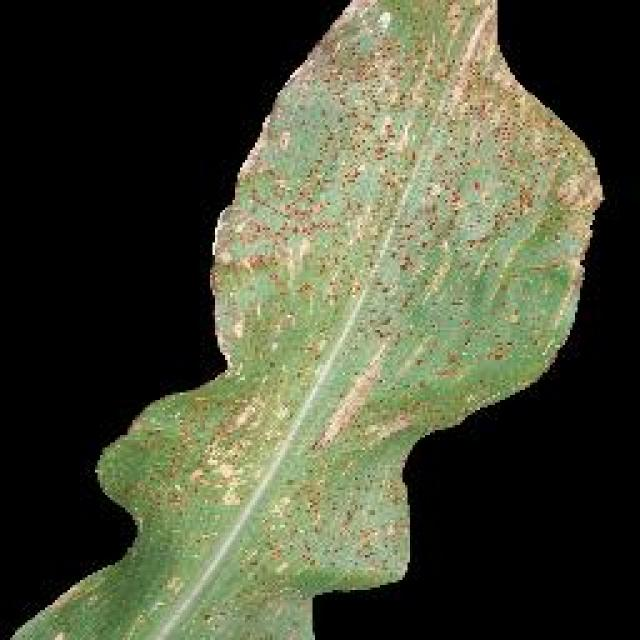Corn Common Rust: (235, 12, 438, 470)
